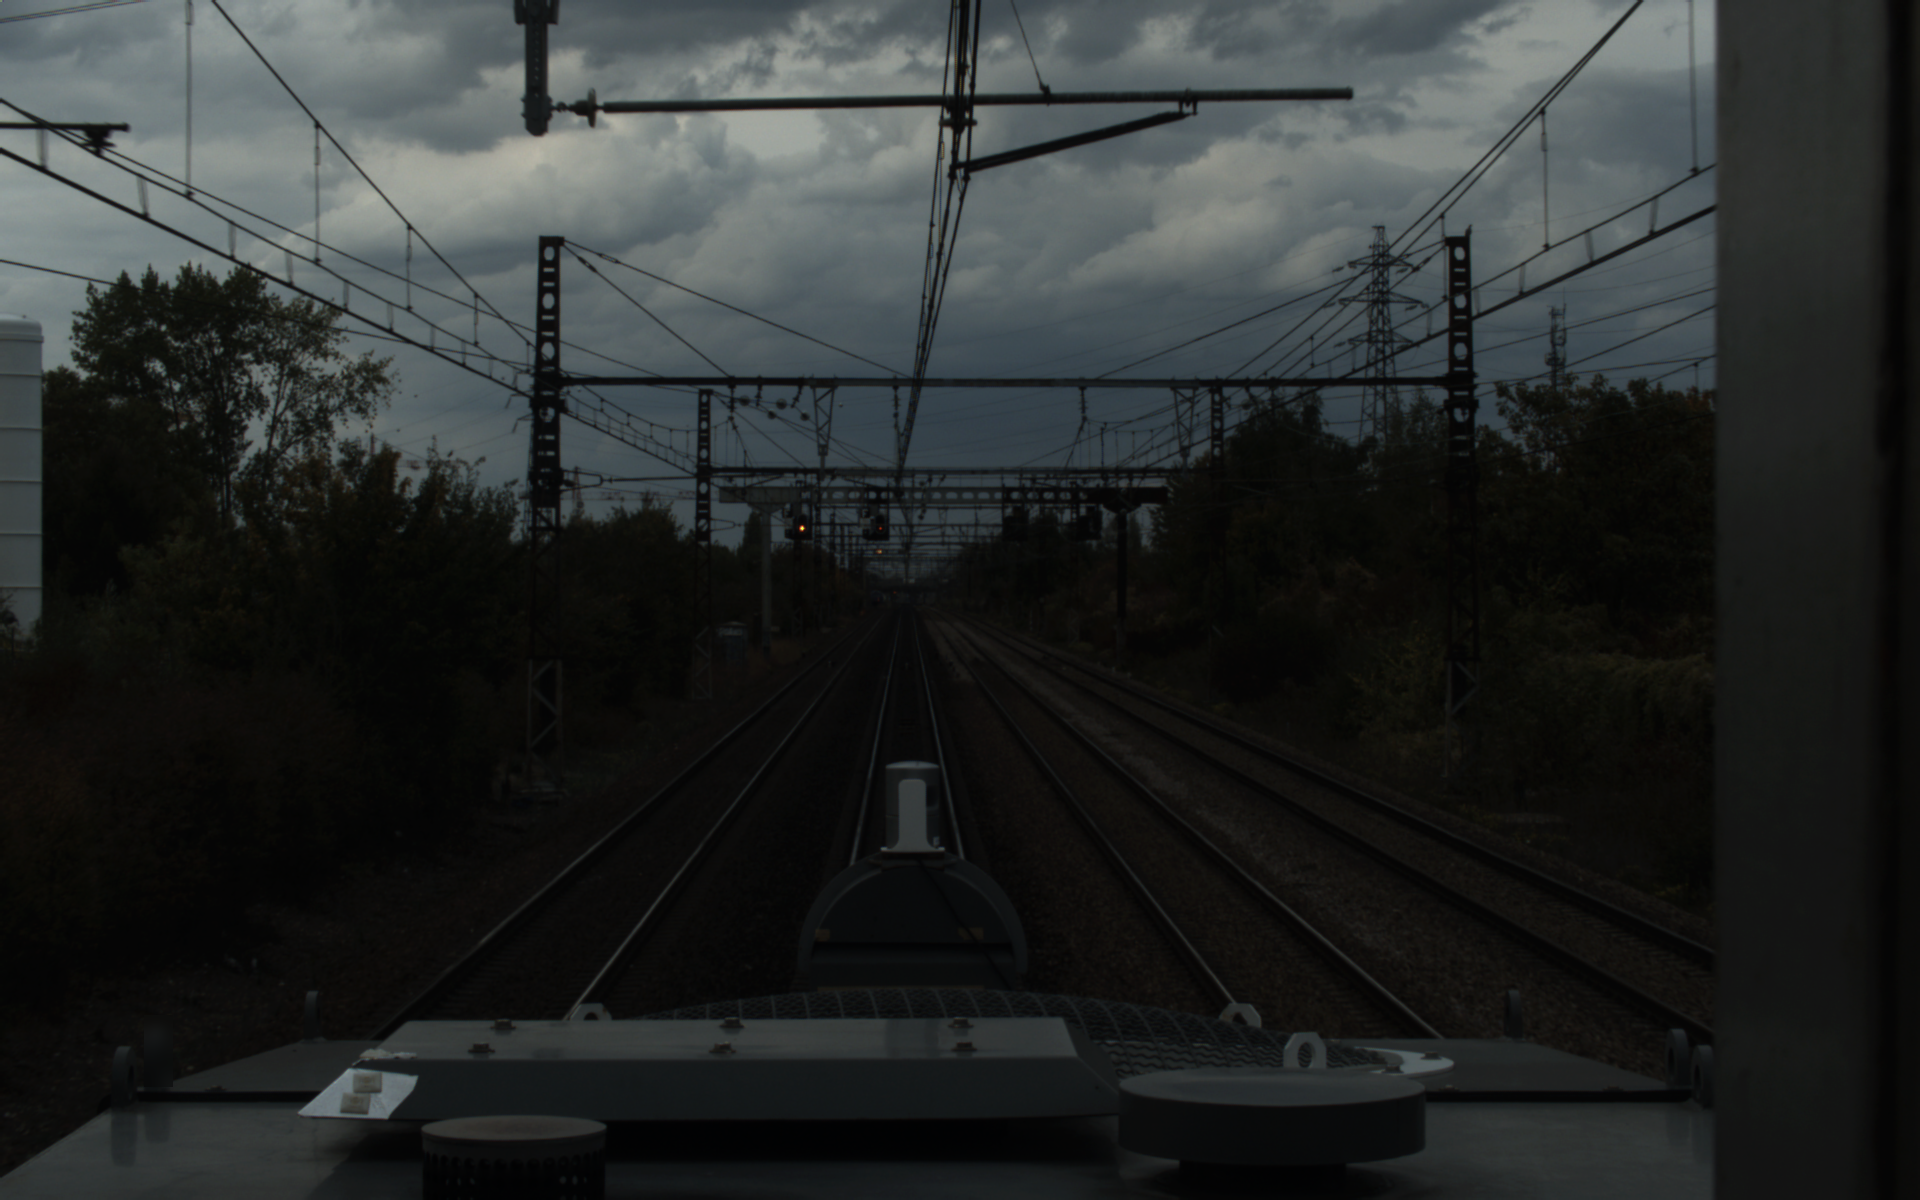Blinking: (874, 512, 887, 535)
Fixed: (793, 512, 810, 535)
